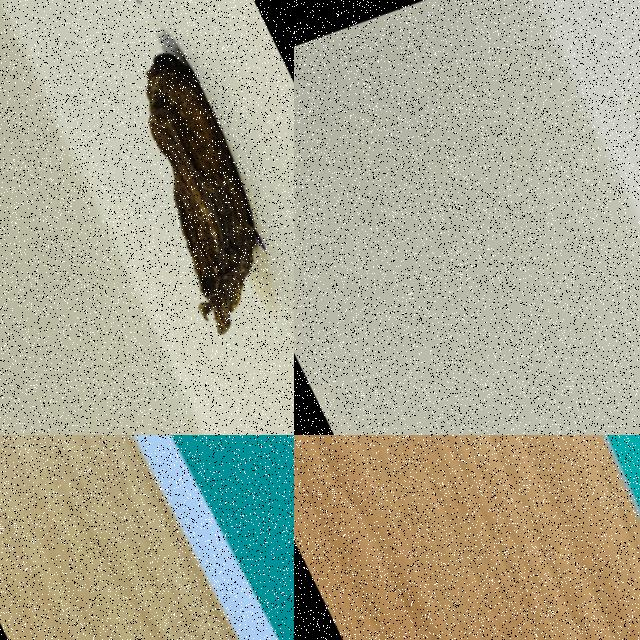Fine_cocoabeans: (539, 435, 639, 636)
Flat_cocoabeans: (34, 0, 293, 379)
